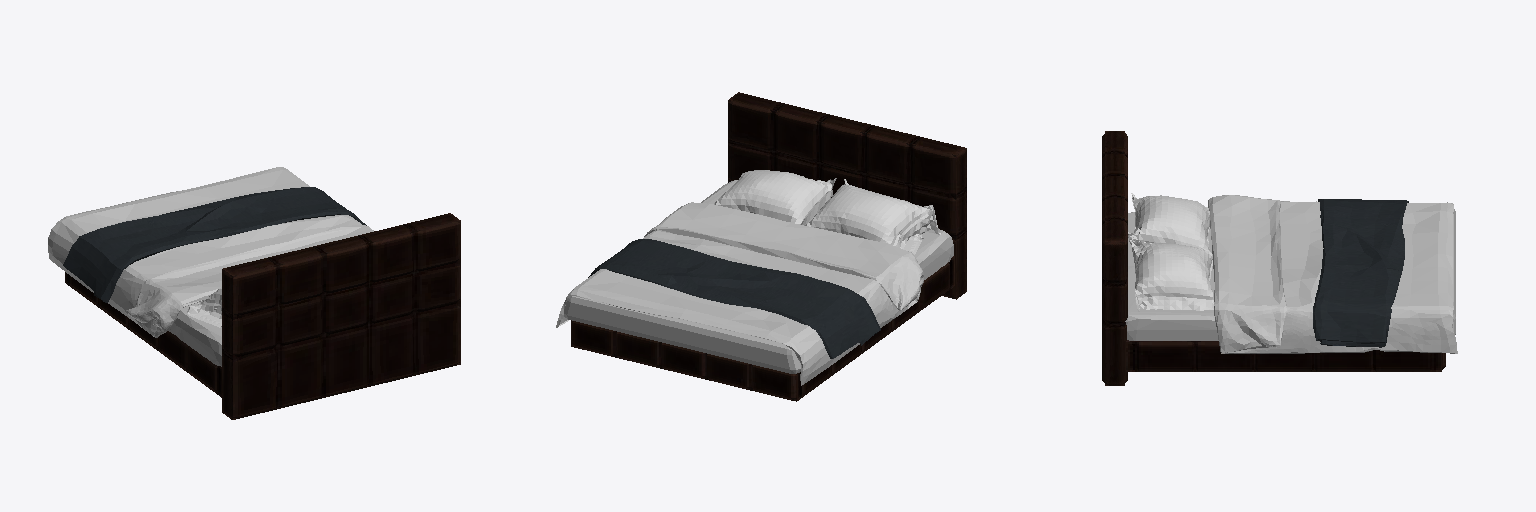
The picture shows the model from 3 angles: view 1: azimuth 30°, elevation 25°; view 2: azimuth 150°, elevation 25°; view 3: azimuth 270°, elevation 25°; orthographic projection.
Parts seen in each view (by area): view 1: Bed_003; view 2: Bed_003; view 3: Bed_003.
Boxes of the visible parts, <box> form: Bed_003: <box>48,167,460,419</box>; Bed_003: <box>556,92,966,401</box>; Bed_003: <box>1102,131,1457,385</box>.
Size of the model in its own units: 200 by 104 by 230.
1 materials, 1 textured.